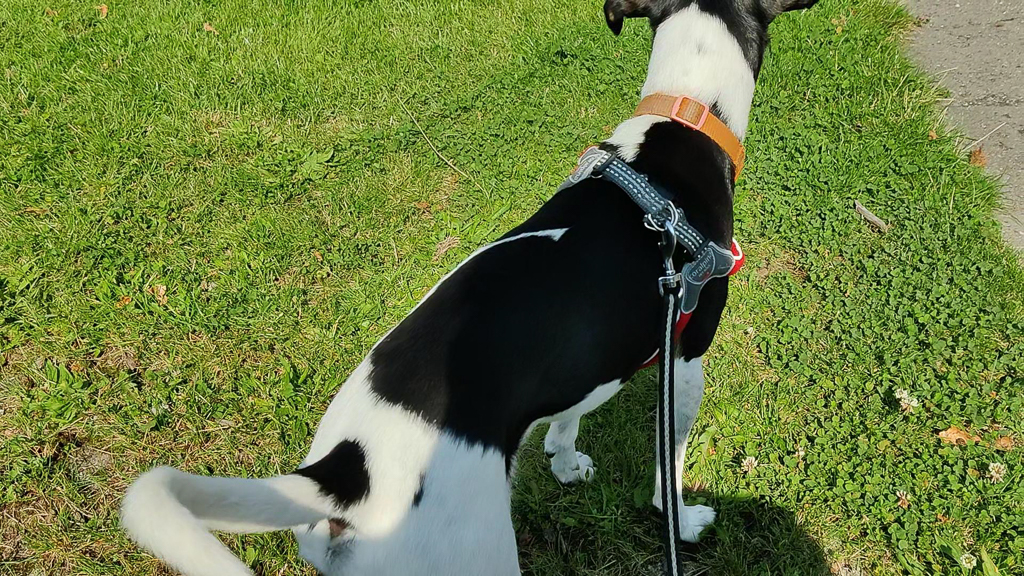Dog: (103, 0, 830, 576)
